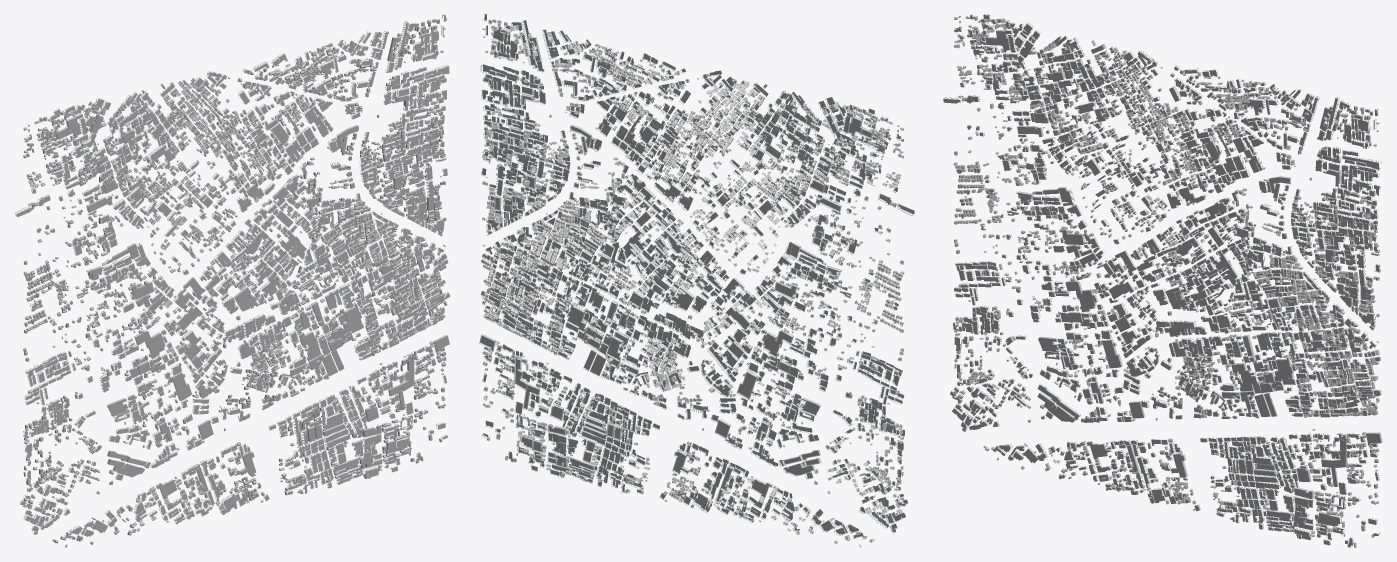
The model's file is buildings_1_4.obj.
The picture shows the model from 3 angles, left to right: view 1: azimuth 30°, elevation 25°; view 2: azimuth 150°, elevation 25°; view 3: azimuth 330°, elevation 25°; orthographic projection.
Bounding box in the file's own units: 2065 × 2035 × 33.1.
Materials: 5 (5 with a texture image).
